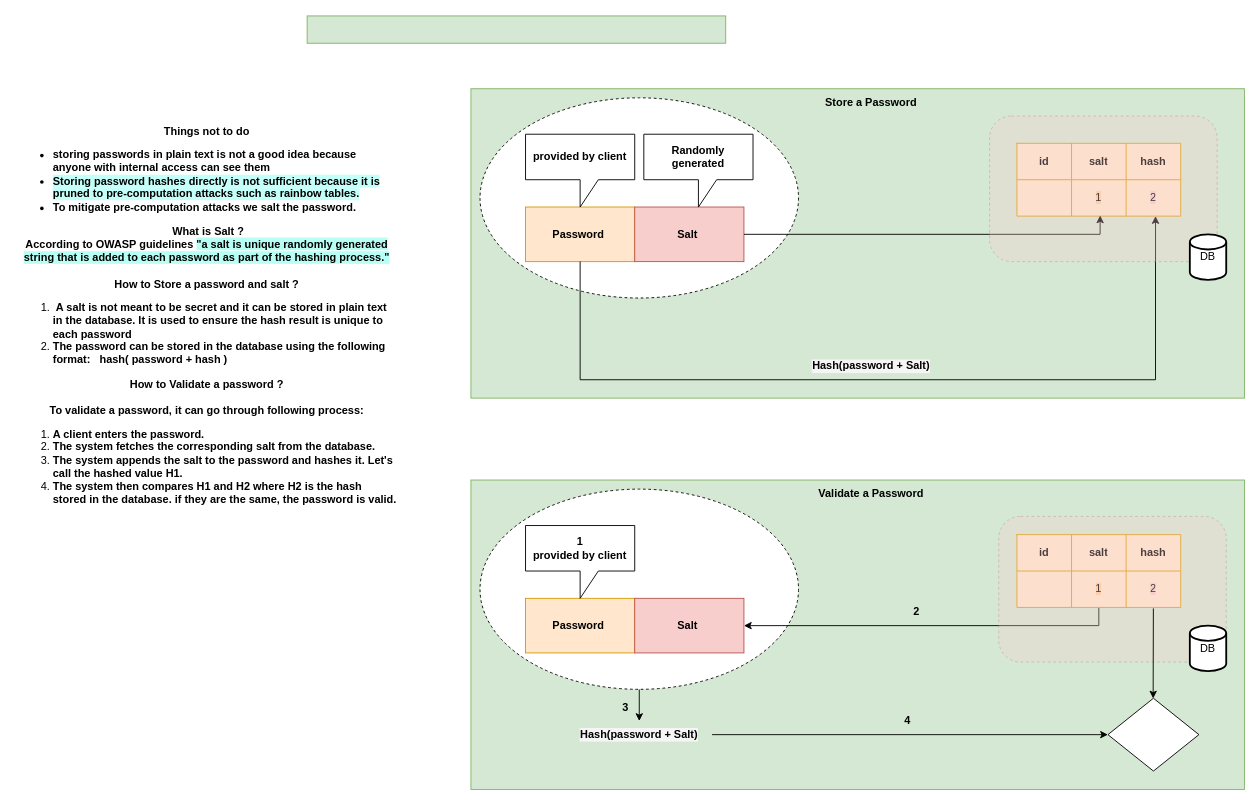
Image size: 1260x805. Some labels were removed from this diagram. Here are the shapes that lost their labels. From the top down, the centre of each, then its label:
At (516,29): "How to store passwords safely in the database".
At (1153,734): "is equal?".
